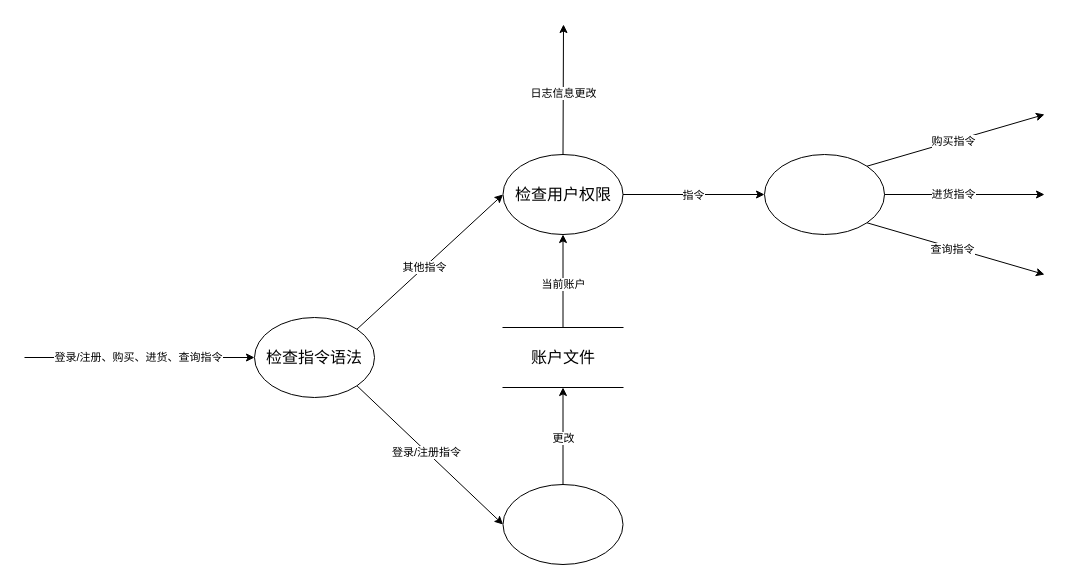
The diagram is 1070 pixels wide and 582 high, and some of its shapes have lost their labels. Each missing label, with the centre of its shape:
分派指令: [824,194]
更新账户状态: [562,524]
